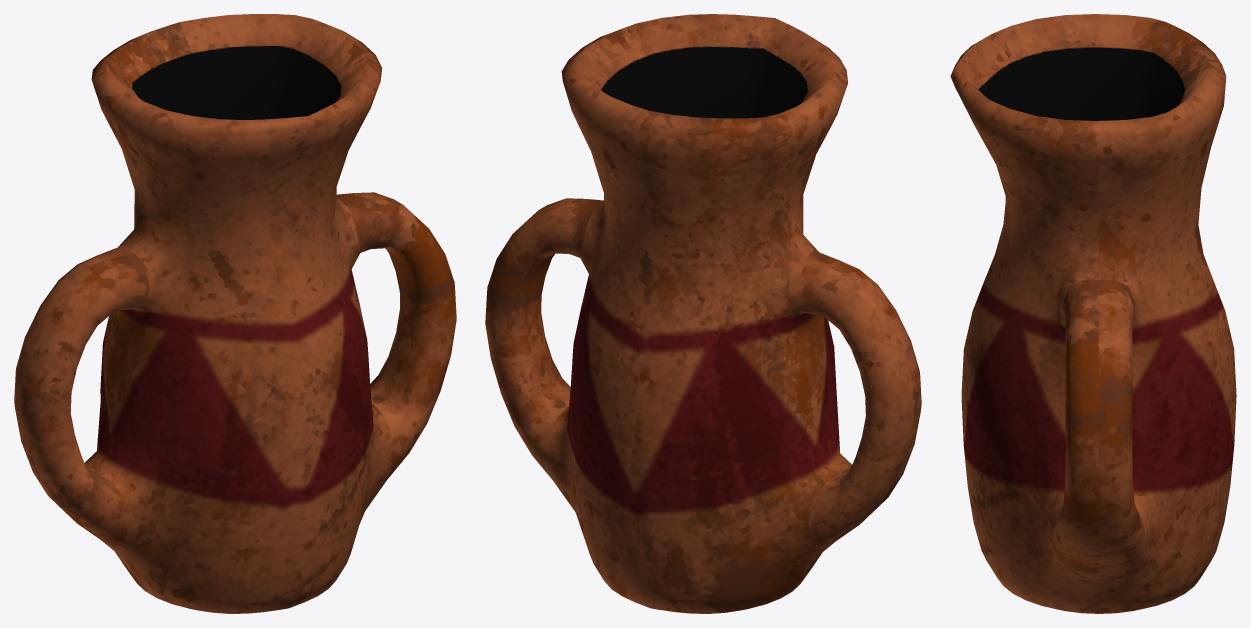
The model's file is Pot_Cvl_13-12.fbx.
3 views of the same model, side by side, from view 1: azimuth 30°, elevation 25°; view 2: azimuth 150°, elevation 25°; view 3: azimuth 270°, elevation 25° (orthographic).
Visible parts, largest first — view 1: Cylinder.020; view 2: Cylinder.020; view 3: Cylinder.020.
Boxes of the visible parts, x1,y1,x2,y2 form: Cylinder.020: (14,14,456,613); Cylinder.020: (485,14,921,613); Cylinder.020: (950,14,1236,613).
Bounding box in the file's own units: 188 × 217 × 110.
1 material, 1 textured.
